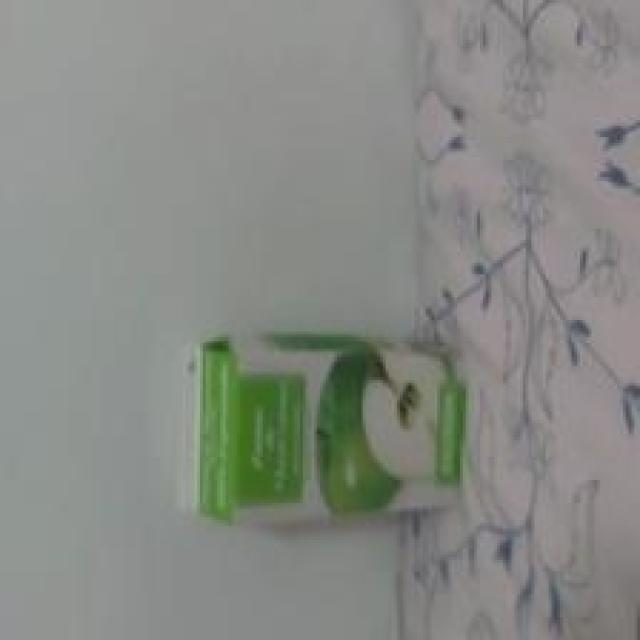PaperCardboard: (186, 332, 465, 528)
